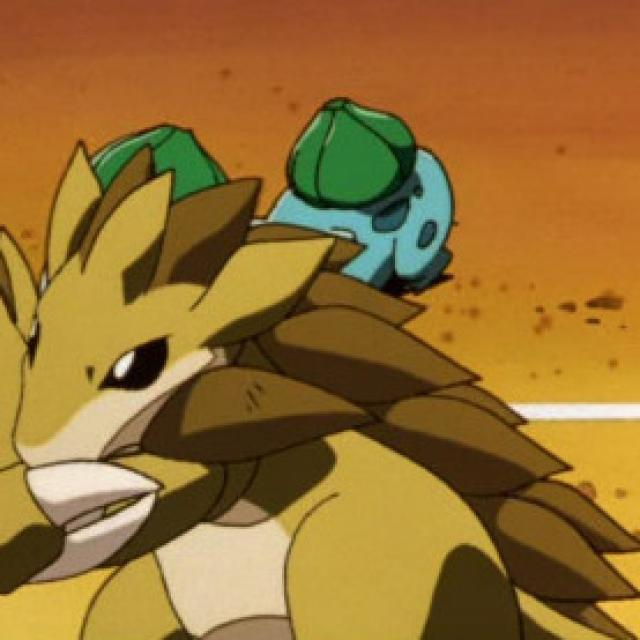Bulbasaur: (277, 92, 462, 284)
Sandslash: (0, 172, 513, 640)
